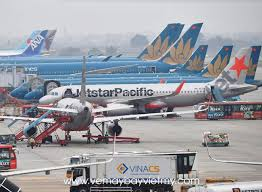maybay_dansu: (27, 101, 214, 145), (21, 74, 241, 104), (46, 85, 262, 111)
